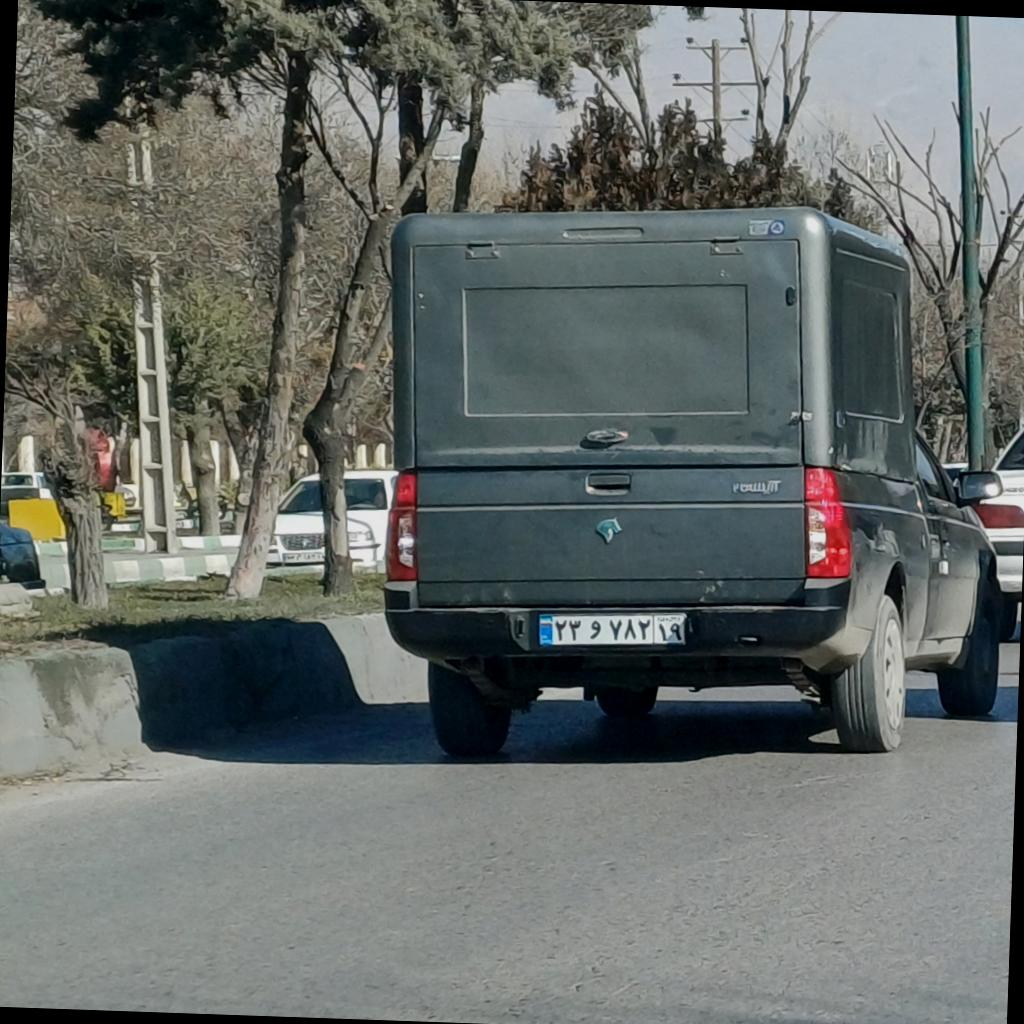Plates: (538, 606, 686, 650)
